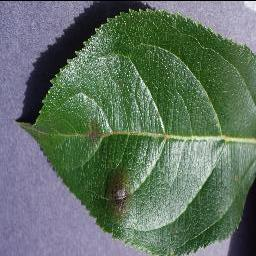apple healthy: (15, 6, 255, 255)
